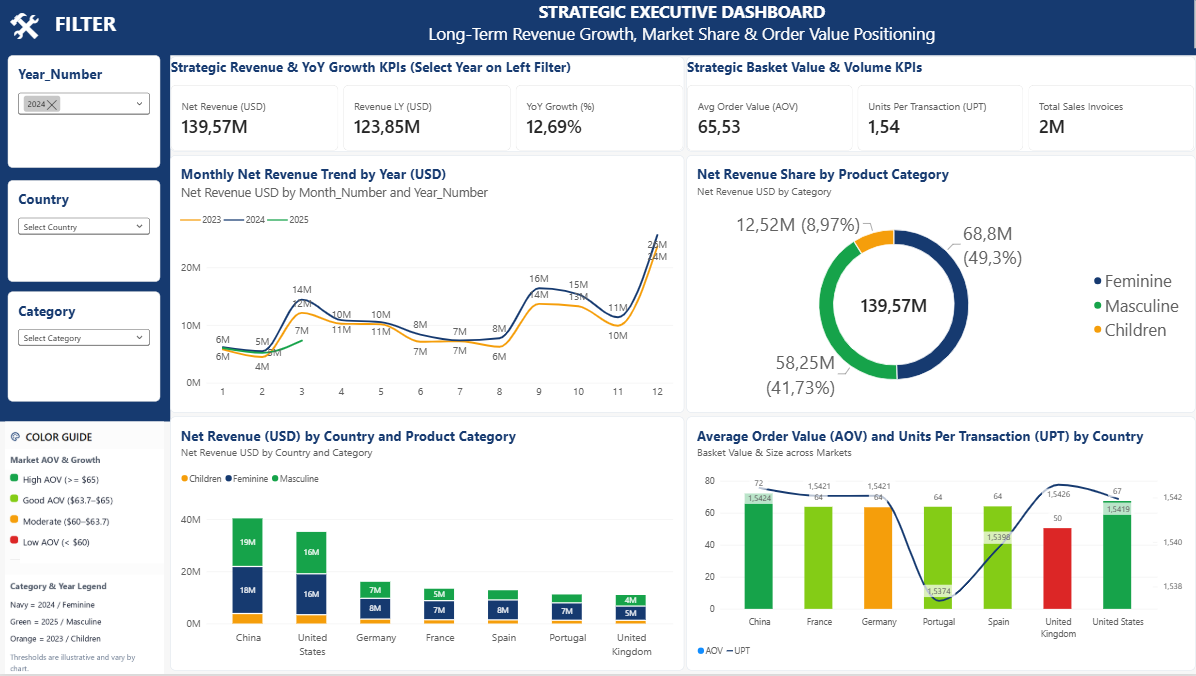

The page's visual inventory and layout, read from the dashboard file:
{"tool":"powerbi","page":{"name":"DASHBOARD 1: STRATEGIC – REVENUE & MARKET GROWTH","canvas":[1920,1080],"ordinal":0},"visuals":[{"type":"shape","box":[0,0,1920,90],"z":0},{"type":"shape","box":[0,84,274,592],"z":1000},{"type":"cardVisual","title":"Strategic Revenue & YoY Growth KPIs (Select Year on Left Filter)","fields":{"Data":["Fact_Sales.Net Revenue USD","Dim_Currency.Revenue LY","Dim_Currency.YoY %"]},"box":[274,92,822,152],"z":2000},{"type":"cardVisual","title":"Strategic Basket Value & Volume KPIs","fields":{"Data":["Fact_Sales.AOV","Fact_Sales.UPT","Fact_Sales.Sales Invoice Count"]},"box":[1100,92,814,152],"z":3000},{"type":"lineChart","title":"Monthly Net Revenue Trend by Year (USD)","fields":{"Category":["Dim_Date.Month_Number"],"Series":["Dim_Date.Year_Number"],"Y":["Fact_Sales.Net Revenue USD"]},"box":[274,250,822,412],"z":4000},{"type":"donutChart","title":"Net Revenue Share by Product Category","fields":{"Category":["Dim_Product.Category"],"Y":["Fact_Sales.Net Revenue USD"]},"box":[1100,250,814,412],"z":5000},{"type":"columnChart","title":"Net Revenue (USD) by Country and Product Category","fields":{"Category":["Dim_Store.Country"],"Series":["Dim_Product.Category"],"Y":["Fact_Sales.Net Revenue USD"]},"box":[274,668,822,406],"z":6000},{"type":"lineClusteredColumnComboChart","title":"Average Order Value (AOV) and Units Per Transaction (UPT) by Country","fields":{"Category":["Dim_Store.Country"],"Y":["Fact_Sales.AOV"],"Y2":["Fact_Sales.UPT"]},"box":[1100,668,814,406],"z":7000},{"type":"listSlicer","fields":{"Values":["Dim_Date.Year_Number"]},"box":[14,90,244,180],"z":8000},{"type":"listSlicer","fields":{"Values":["Dim_Store.Country"]},"box":[14,290,244,162],"z":9000},{"type":"listSlicer","fields":{"Values":["Dim_Product.Category"]},"box":[14,468,244,176],"z":10000},{"type":"textbox","box":[14,2,62,82],"z":11000},{"type":"textbox","box":[76,16,124,68],"z":12000},{"type":"textbox","box":[274,2,1646,82],"z":13000},{"type":"image","box":[0,676,274,404],"z":14000}]}

Visuals, with their boxes in screenshot pixels (x1, y1, x2, y2), scaled from the page's 1920x1080 canvas onto the 1196x676 screenshot:
shape: 0:0:1195:56
shape: 0:53:171:423
"Strategic Revenue & YoY Growth KPIs (Select Year on Left Filter)" cardVisual: 171:58:683:153
"Strategic Basket Value & Volume KPIs" cardVisual: 685:58:1192:153
"Monthly Net Revenue Trend by Year (USD)" lineChart: 171:156:683:414
"Net Revenue Share by Product Category" donutChart: 685:156:1192:414
"Net Revenue (USD) by Country and Product Category" columnChart: 171:418:683:672
"Average Order Value (AOV) and Units Per Transaction (UPT) by Country" lineClusteredColumnComboChart: 685:418:1192:672
listSlicer - Dim_Date.Year_Number: 9:56:161:169
listSlicer - Dim_Store.Country: 9:182:161:283
listSlicer - Dim_Product.Category: 9:293:161:403
textbox: 9:1:47:53
textbox: 47:10:125:53
textbox: 171:1:1195:53
image: 0:423:171:675
